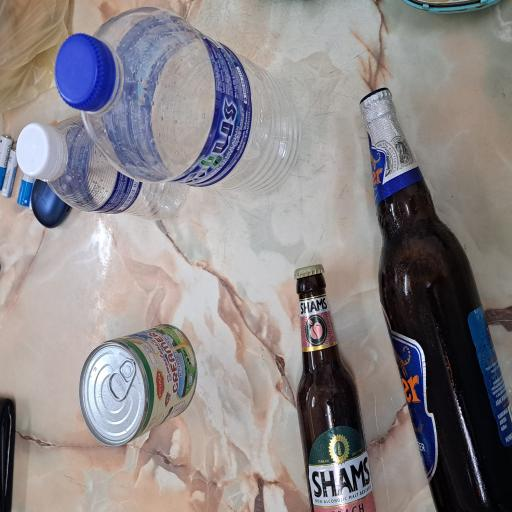can: (50, 101, 143, 265)
glass bottle: (0, 389, 187, 500)
plastic bottle: (237, 73, 375, 405), (225, 20, 298, 252)
plastic bottle cap: (300, 76, 358, 160), (248, 20, 294, 88)
pop tab: (85, 140, 116, 188)
